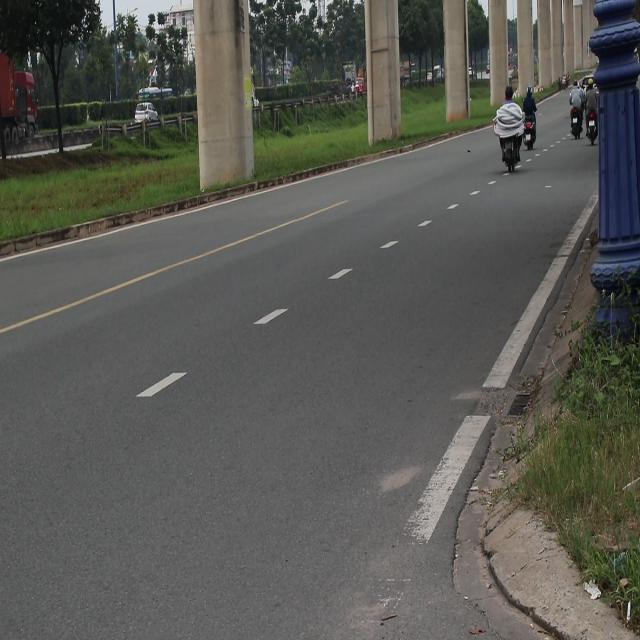car: (137, 87, 178, 102), (134, 105, 158, 124)
motorbike: (504, 126, 520, 181), (564, 109, 584, 144), (584, 112, 596, 151), (522, 118, 536, 151)
truck: (0, 61, 41, 145)
